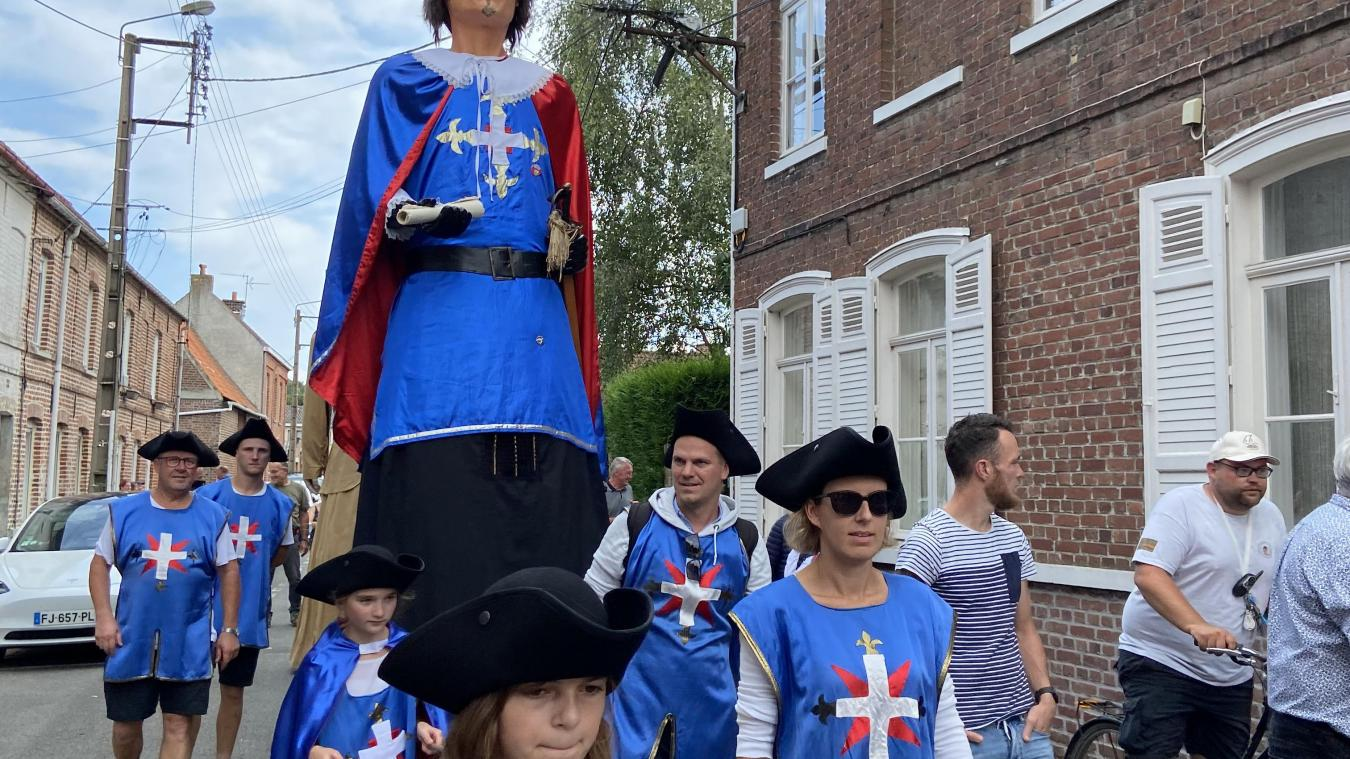without_mask: (515, 666, 605, 759), (826, 488, 887, 557), (671, 444, 718, 505), (1222, 457, 1271, 509), (990, 435, 1024, 506), (348, 588, 390, 631), (159, 448, 198, 491), (241, 437, 266, 474)
